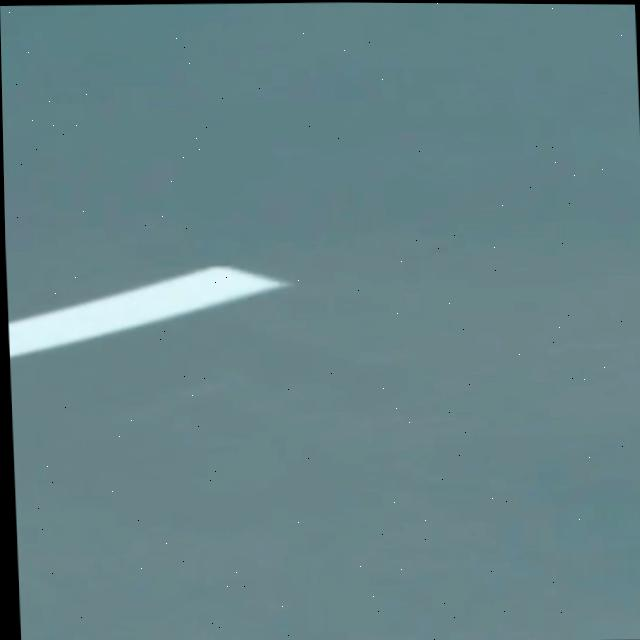center: (7, 266, 287, 356)
